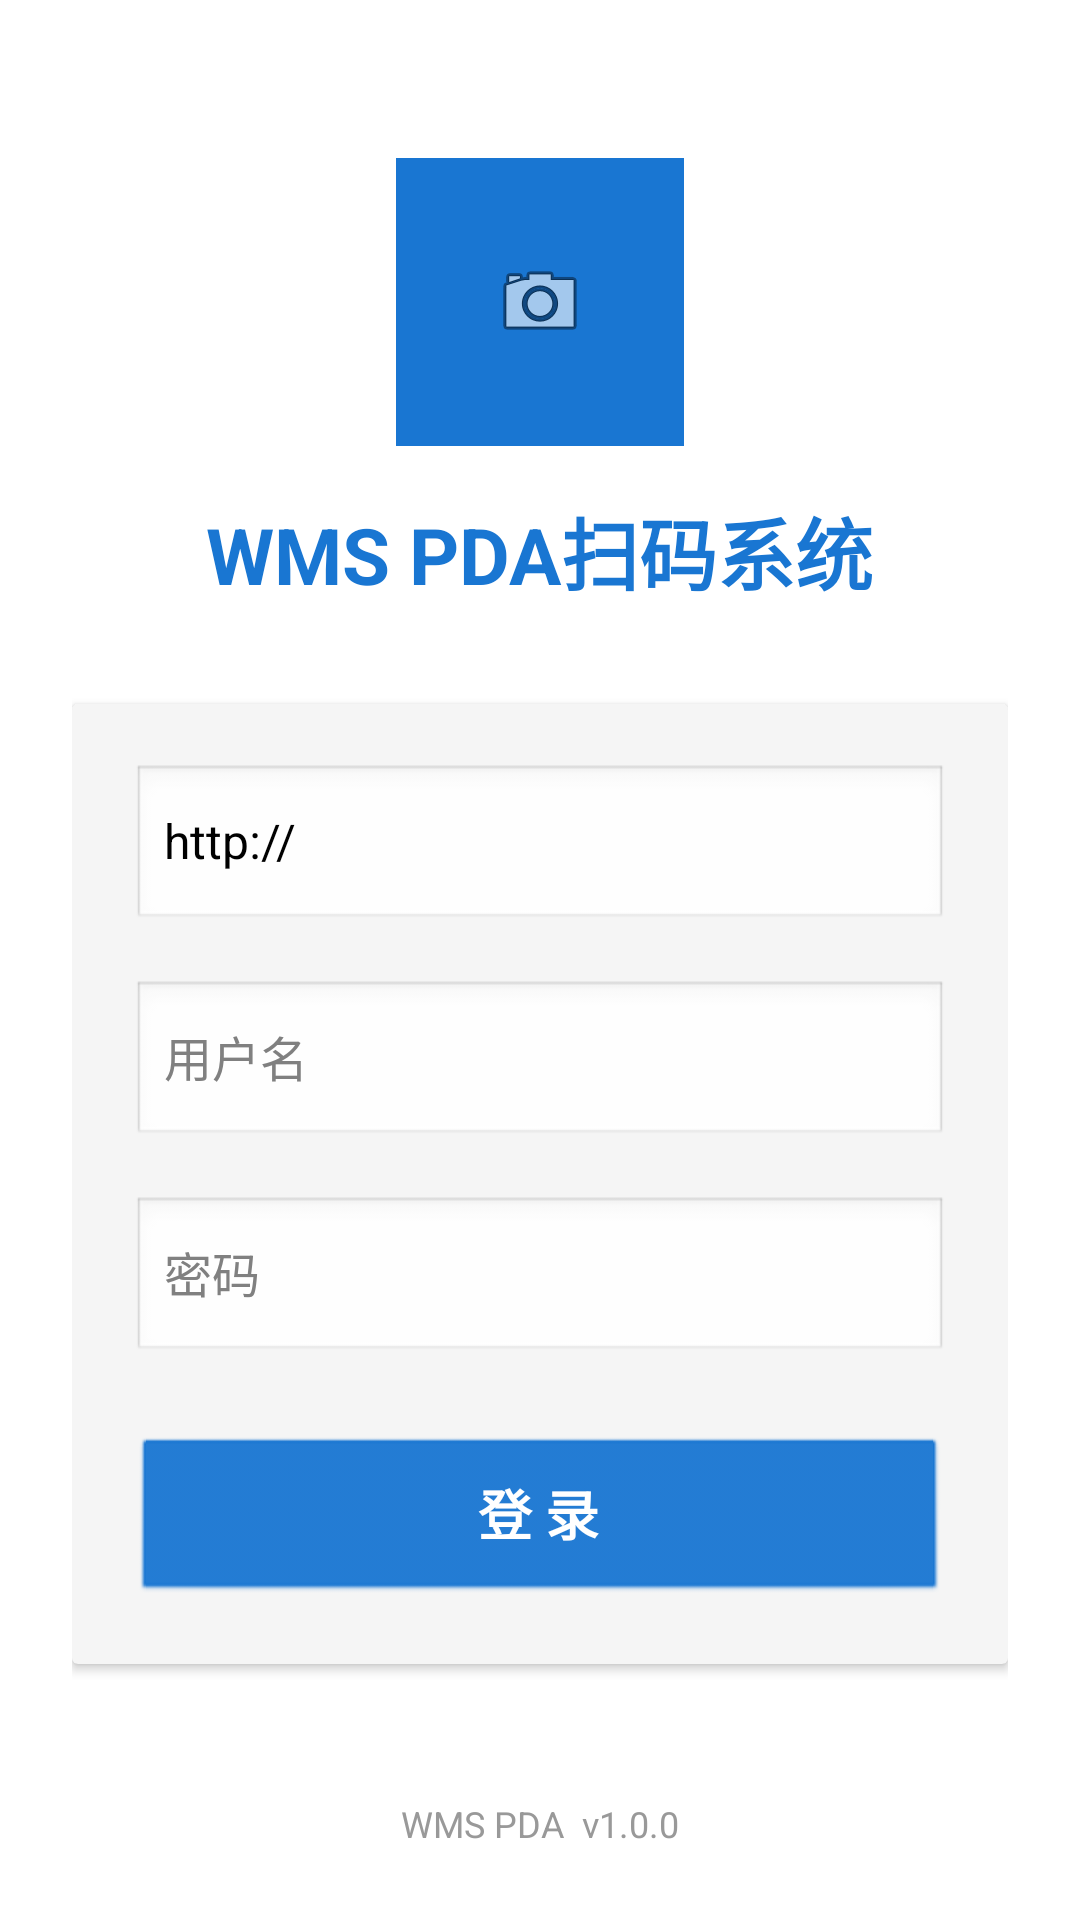

Where to tap for icons on this 1080x1920 app screen, as point (x, y):
camera: point (540, 302)
